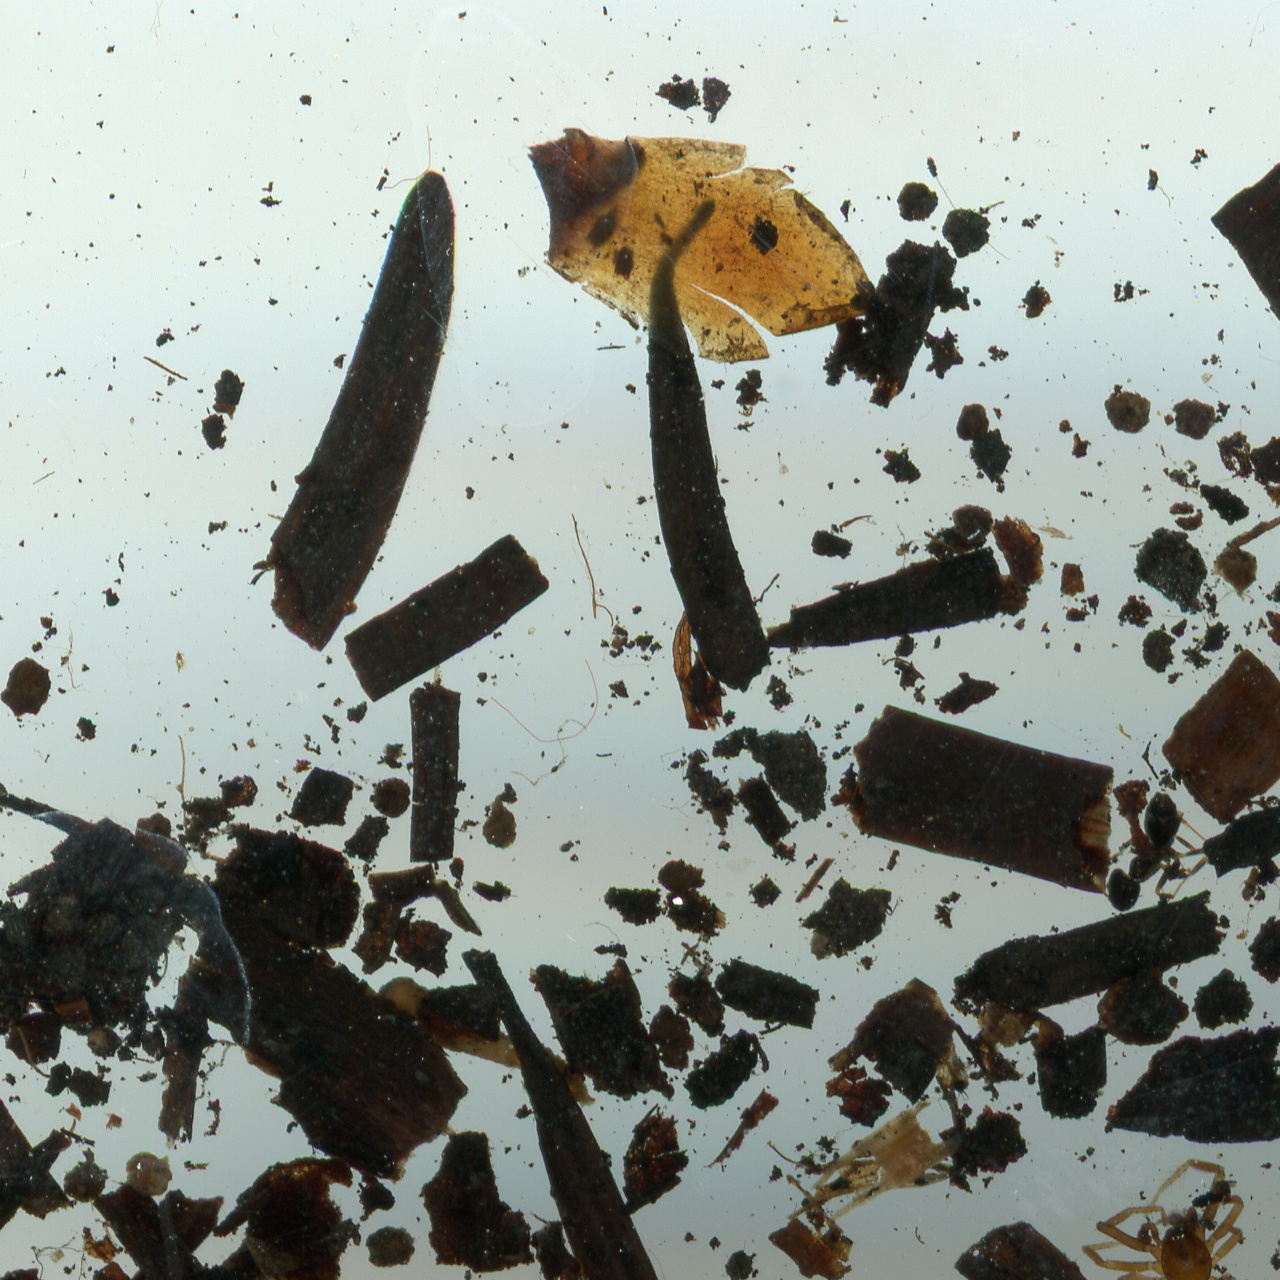arthropod: (1080, 1156, 1280, 1280), (1105, 792, 1213, 913)
